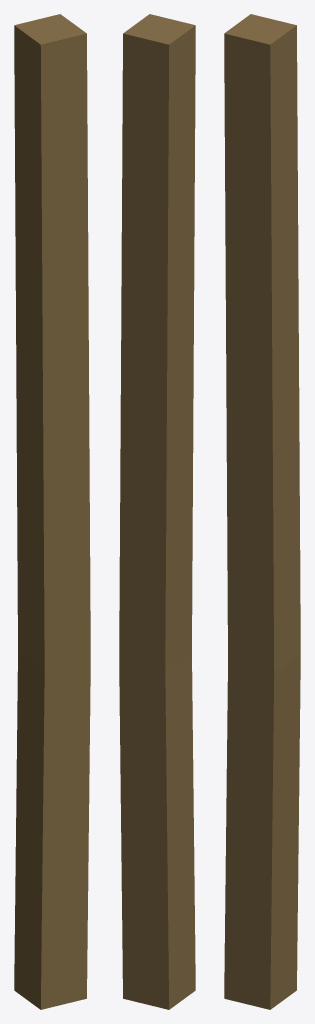
File: Fence_Tourist_A.fbx
The picture shows the model from 3 angles, left to right: view 1: azimuth 30°, elevation 25°; view 2: azimuth 150°, elevation 25°; view 3: azimuth 330°, elevation 25°; orthographic projection.
Parts seen in each view (by area): view 1: Fence_Tourist_A; view 2: Fence_Tourist_A; view 3: Fence_Tourist_A.
Boxes of the visible parts, box(x1,y1,x2,y2) form: Fence_Tourist_A: box(14, 14, 90, 1009); Fence_Tourist_A: box(119, 14, 195, 1009); Fence_Tourist_A: box(224, 14, 300, 1009).
Size of the model in its own units: 5.42 by 100 by 5.
